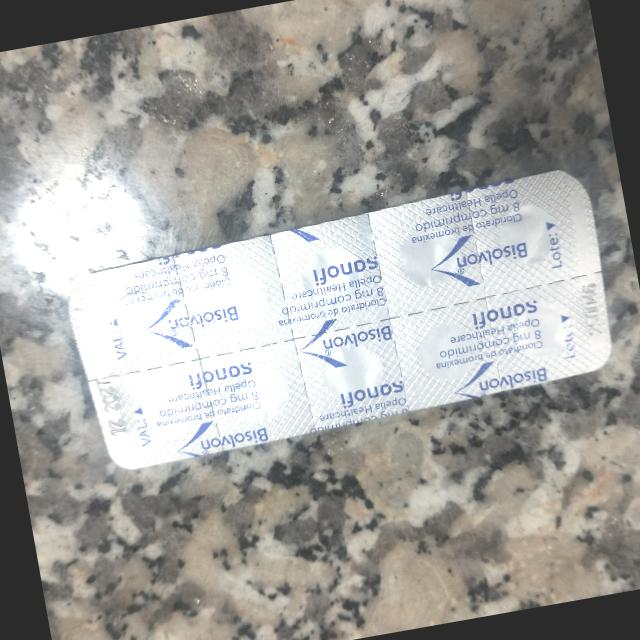blister: (56, 161, 626, 478)
